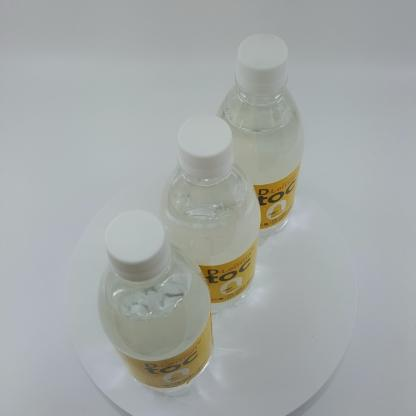------500ML: (97, 210, 214, 397), (159, 114, 261, 314), (213, 33, 305, 246)
